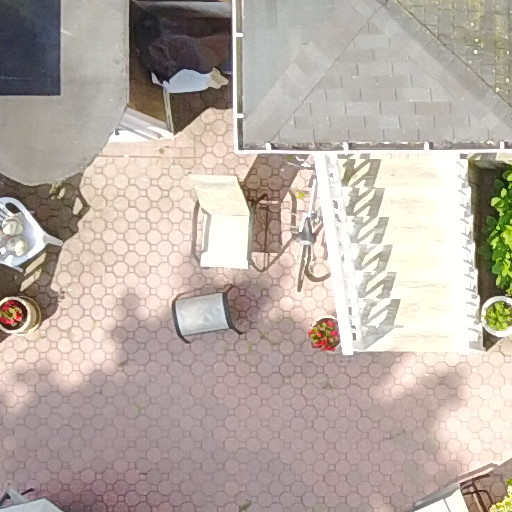flower pot: (302, 305, 346, 369), (2, 293, 50, 336)
